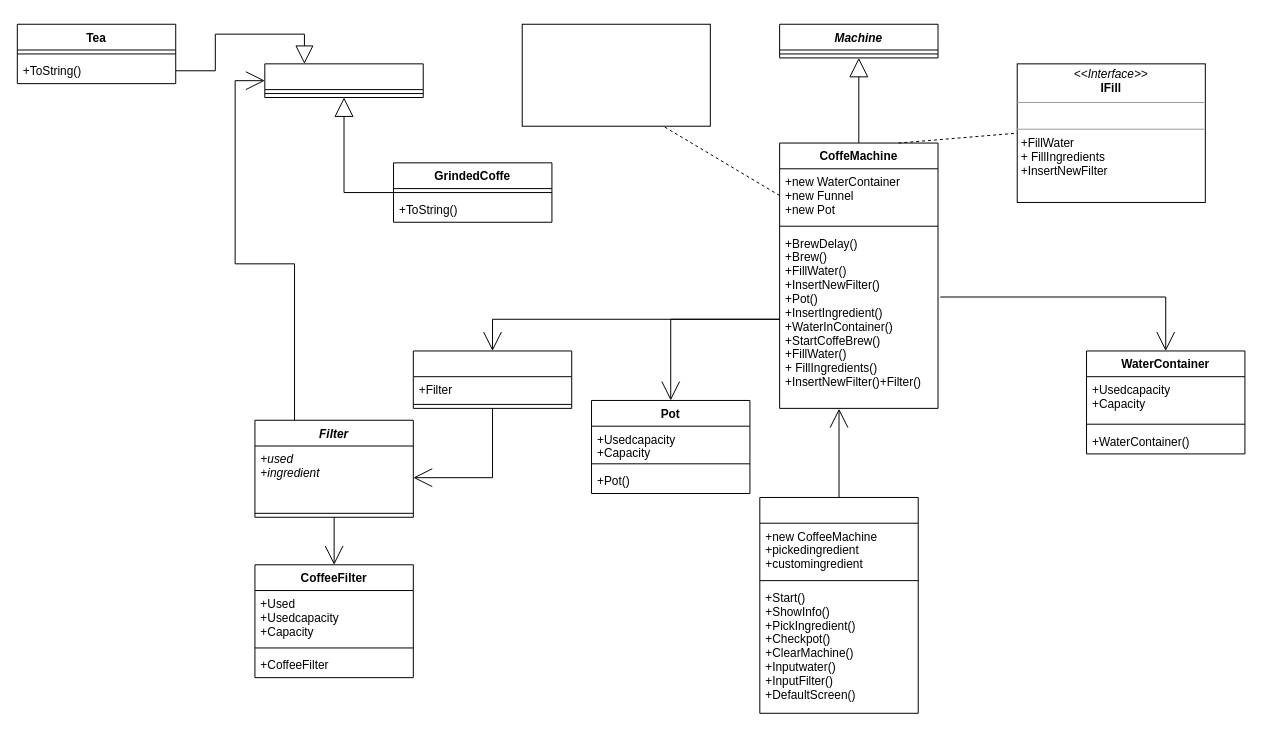
Image size: 1262x734. Some labels were removed from this diagram. The shapes that lost their labels are listed below. From the top down, each one's box as (x1, y1, x2, y2) in pixels, then its label:
(264, 63, 423, 98): ingredient
(521, 23, 710, 126): <<Interface>> IBrew + Brew()
(412, 350, 572, 408): Funnel
(759, 496, 918, 713): Menu
